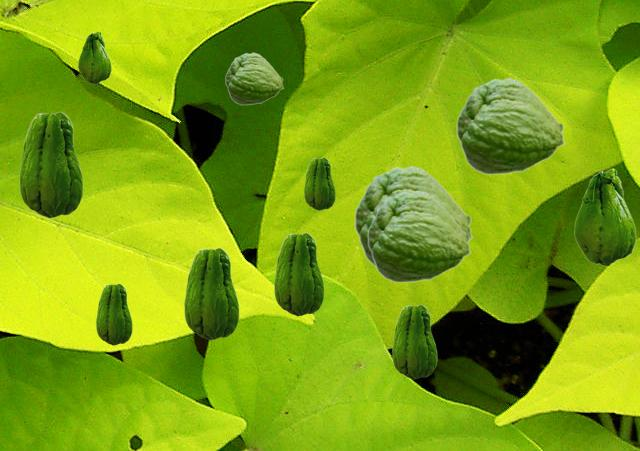sayote: (354, 165, 473, 266), (456, 77, 565, 174), (367, 190, 471, 282), (19, 111, 82, 217), (574, 168, 635, 265), (184, 247, 238, 339), (274, 232, 323, 315), (392, 304, 436, 378), (225, 52, 283, 104), (96, 283, 131, 344), (78, 31, 110, 83), (304, 157, 334, 209)
